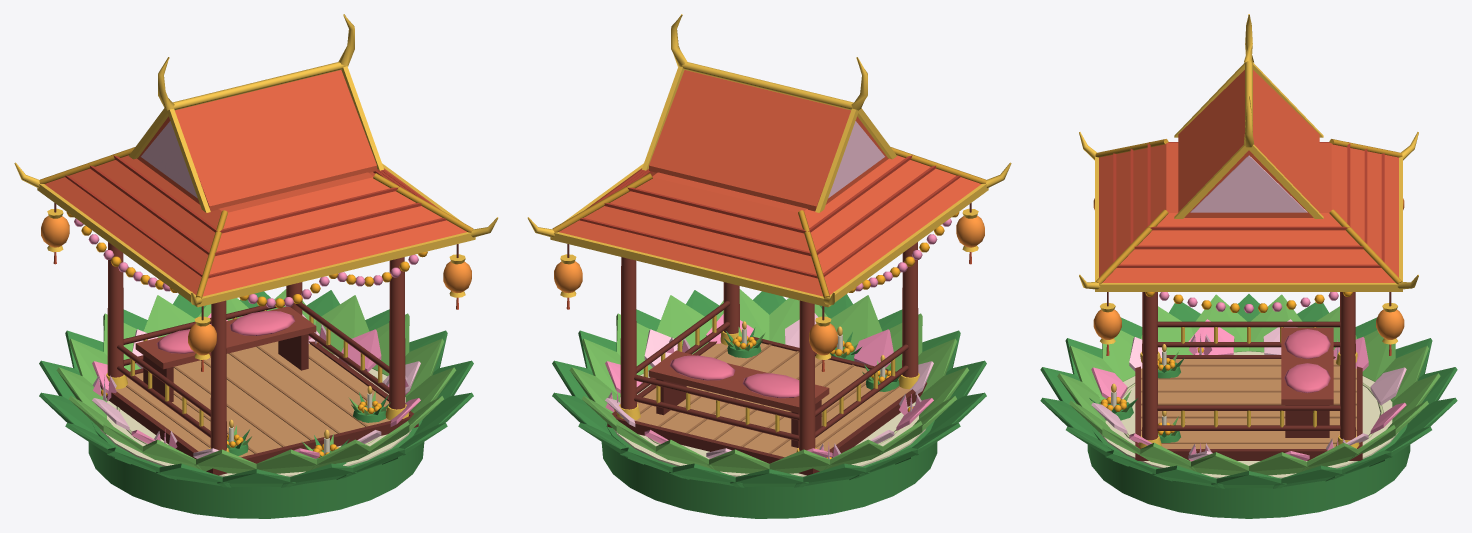
File: KrathongPavilion_before_taller_20261113.glb
3 renders of one model, left to right at view 1: azimuth 30°, elevation 25°; view 2: azimuth 150°, elevation 25°; view 3: azimuth 270°, elevation 25°, orthographic. The views are drawn at different scales.
Parts seen in each view (by area): view 1: KrathongPavilion__Roof, KrathongPavilion__Banana_Leaf, KrathongPavilion__Floor, KrathongPavilion__Banana_Leaf_Light, KrathongPavilion__Gold, KrathongPavilion__Post, KrathongPavilion__Post_Dark, KrathongPavilion__Roof_Dark, KrathongPavilion__Lotus, KrathongPavilion__Lotus_Light, KrathongPavilion__Lantern_Glow, KrathongPavilion__Floor_Dark (+4 smaller); view 2: KrathongPavilion__Roof, KrathongPavilion__Banana_Leaf, KrathongPavilion__Banana_Leaf_Light, KrathongPavilion__Gold, KrathongPavilion__Post, KrathongPavilion__Floor, KrathongPavilion__Post_Dark, KrathongPavilion__Roof_Dark, KrathongPavilion__Lotus_Light, KrathongPavilion__Lotus, KrathongPavilion__Cushion, KrathongPavilion__Lantern_Glow (+4 smaller); view 3: KrathongPavilion__Roof, KrathongPavilion__Banana_Leaf, KrathongPavilion__Banana_Leaf_Light, KrathongPavilion__Floor, KrathongPavilion__Gold, KrathongPavilion__Post_Dark, KrathongPavilion__Post, KrathongPavilion__Lotus_Light, KrathongPavilion__Roof_Dark, KrathongPavilion__Lotus, KrathongPavilion__Trunk_Top, KrathongPavilion__Floor_Dark (+4 smaller).
Boxes of the visible parts, bbox=[...] form: KrathongPavilion__Roof: bbox=[44, 70, 466, 371]; KrathongPavilion__Banana_Leaf: bbox=[39, 290, 473, 518]; KrathongPavilion__Floor: bbox=[116, 341, 390, 457]; KrathongPavilion__Banana_Leaf_Light: bbox=[56, 289, 456, 473]; KrathongPavilion__Gold: bbox=[14, 14, 498, 452]; KrathongPavilion__Post: bbox=[107, 242, 405, 450]; KrathongPavilion__Post_Dark: bbox=[54, 203, 458, 475]; KrathongPavilion__Roof_Dark: bbox=[65, 155, 446, 278]; KrathongPavilion__Lotus: bbox=[74, 218, 420, 458]; KrathongPavilion__Lotus_Light: bbox=[92, 121, 420, 458]; KrathongPavilion__Lantern_Glow: bbox=[41, 215, 471, 355]; KrathongPavilion__Floor_Dark: bbox=[126, 346, 368, 453]; KrathongPavilion__Roof: bbox=[559, 70, 981, 371]; KrathongPavilion__Banana_Leaf: bbox=[552, 290, 986, 518]; KrathongPavilion__Banana_Leaf_Light: bbox=[569, 289, 969, 473]; KrathongPavilion__Gold: bbox=[527, 14, 1011, 452]; KrathongPavilion__Post: bbox=[620, 242, 918, 450]; KrathongPavilion__Floor: bbox=[635, 343, 910, 457]; KrathongPavilion__Post_Dark: bbox=[567, 203, 971, 475]; KrathongPavilion__Roof_Dark: bbox=[579, 155, 960, 278]; KrathongPavilion__Lotus_Light: bbox=[605, 121, 933, 459]; KrathongPavilion__Lotus: bbox=[605, 218, 951, 457]; KrathongPavilion__Cushion: bbox=[670, 355, 799, 398]; KrathongPavilion__Lantern_Glow: bbox=[554, 215, 984, 355]; KrathongPavilion__Roof: bbox=[1099, 70, 1398, 355]; KrathongPavilion__Banana_Leaf: bbox=[1040, 294, 1457, 518]; KrathongPavilion__Banana_Leaf_Light: bbox=[1057, 294, 1440, 475]; KrathongPavilion__Floor: bbox=[1141, 359, 1356, 448]; KrathongPavilion__Gold: bbox=[1079, 14, 1418, 448]; KrathongPavilion__Post_Dark: bbox=[1107, 292, 1391, 460]; KrathongPavilion__Post: bbox=[1142, 292, 1355, 440]; KrathongPavilion__Lotus_Light: bbox=[1091, 155, 1406, 460]; KrathongPavilion__Roof_Dark: bbox=[1113, 142, 1384, 267]; KrathongPavilion__Lotus: bbox=[1091, 292, 1406, 461]; KrathongPavilion__Trunk_Top: bbox=[1099, 351, 1398, 478]; KrathongPavilion__Floor_Dark: bbox=[1141, 364, 1356, 443].
Bounding box in the file's own units: 10.5 × 10.82 × 10.34.
